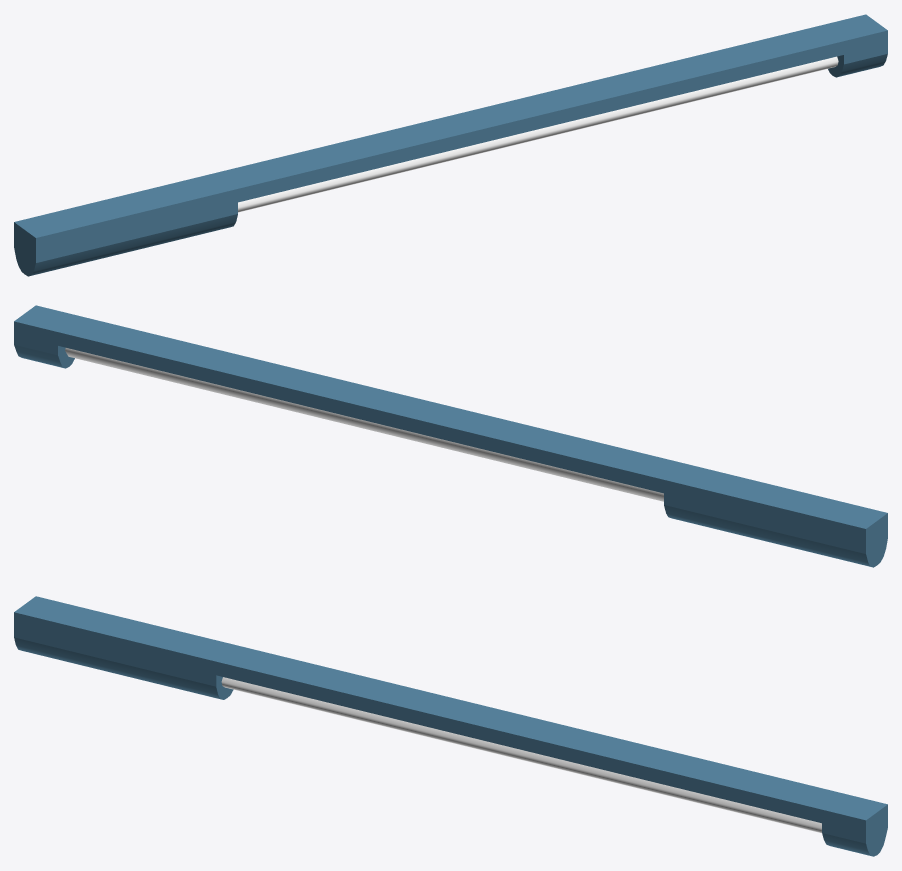
File: CeilingLamp.fbx
The picture shows the model from 3 angles, top to bottom: view 1: azimuth 30°, elevation 25°; view 2: azimuth 150°, elevation 25°; view 3: azimuth 330°, elevation 25°; orthographic projection.
Parts seen in each view (by area): view 1: Frame, Light; view 2: Frame, Light; view 3: Frame, Light.
Part boxes in pixels (x1=…): Frame: x1=14, y1=14, x2=887, y2=276; Light: x1=238, y1=56, x2=838, y2=212; Frame: x1=14, y1=305, x2=887, y2=567; Light: x1=65, y1=348, x2=663, y2=501; Frame: x1=14, y1=596, x2=887, y2=856; Light: x1=221, y1=677, x2=821, y2=833.
Size of the model in its own units: 0.1302 by 0.00651 by 0.0058.
Materials: 2 (2 with a texture image).
